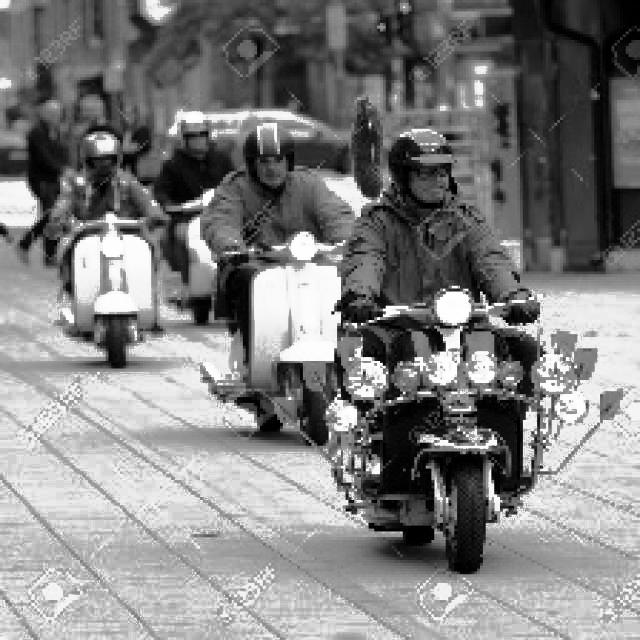Bike: (332, 293, 574, 581), (218, 237, 349, 420), (55, 216, 161, 370)
